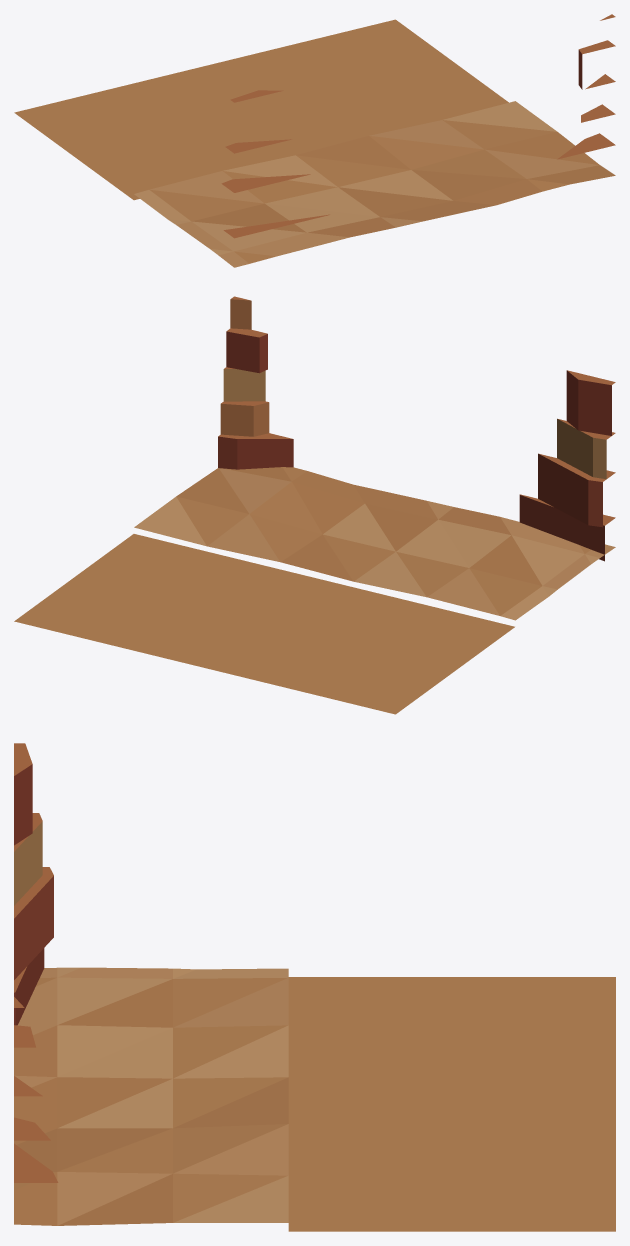
3 renders of one model, top to bottom at view 1: azimuth 30°, elevation 25°; view 2: azimuth 150°, elevation 25°; view 3: azimuth 270°, elevation 25°, orthographic. The views are drawn at different scales.
Parts seen in each view (by area): view 1: baked; view 2: baked; view 3: baked.
Part boxes in pixels (x1,y1,x2,y2): baked: [14, 14, 615, 267]; baked: [14, 296, 615, 714]; baked: [14, 743, 615, 1231].
Bounding box in the file's own units: 62.5 × 26.77 × 62.5.
